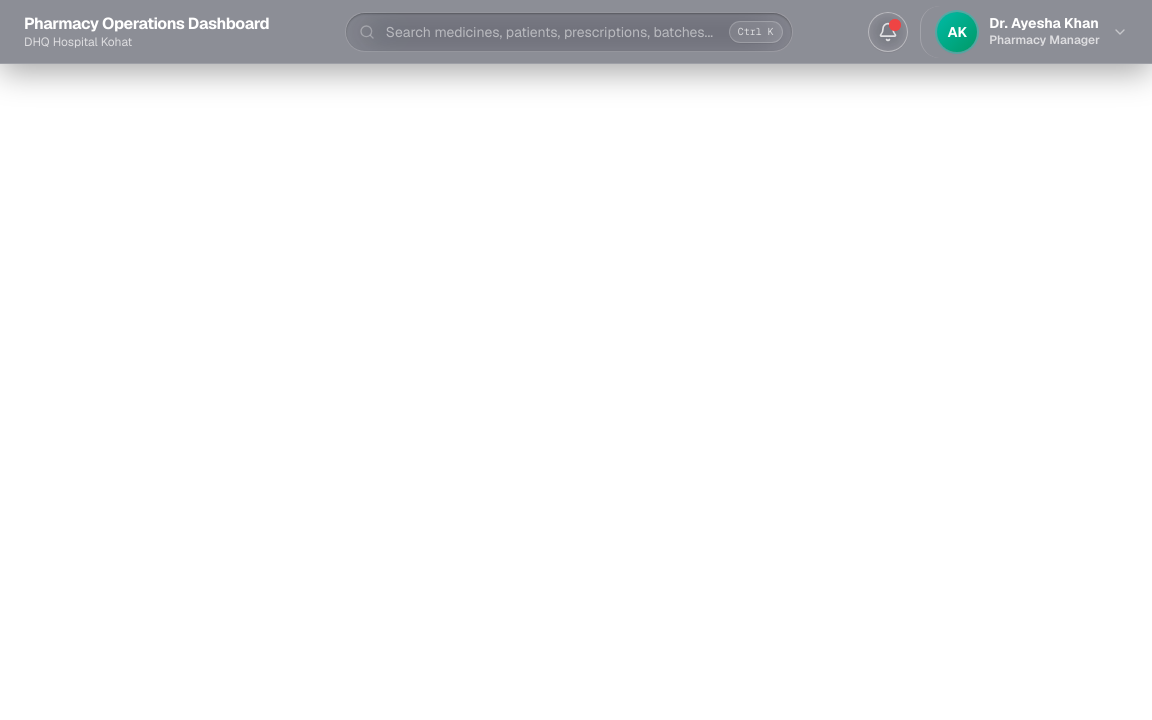
Scenario: Header Component › opens user profile menu with provisional role preview switcher
The image size is (1152, 720).
Click the button with aria-label "user profile and role menu".
click(1024, 32)  # box [920,6,1128,58]
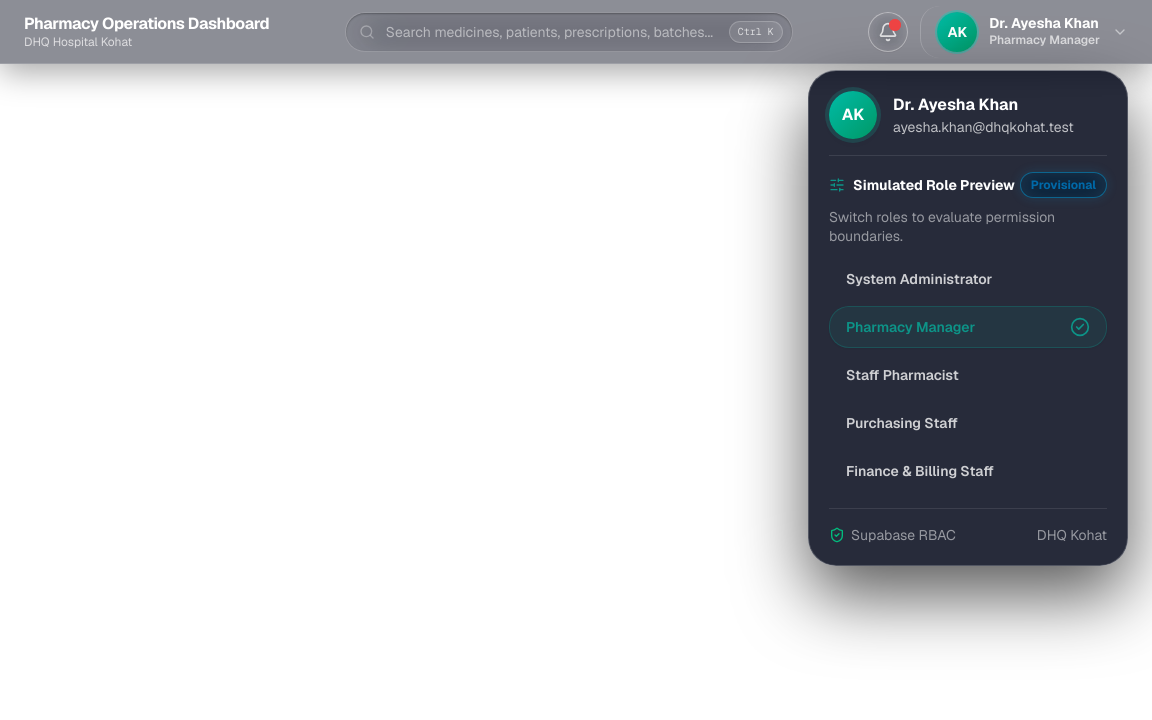
Now the text "Simulated Role Preview" is shown, box [829,174,1015,194]
Now the text "ayesha.khan@dhqkohat.test" is shown, box [893,116,1074,136]
Now the text "Staff Pharmacist" is shown, box [846,365,959,385]
